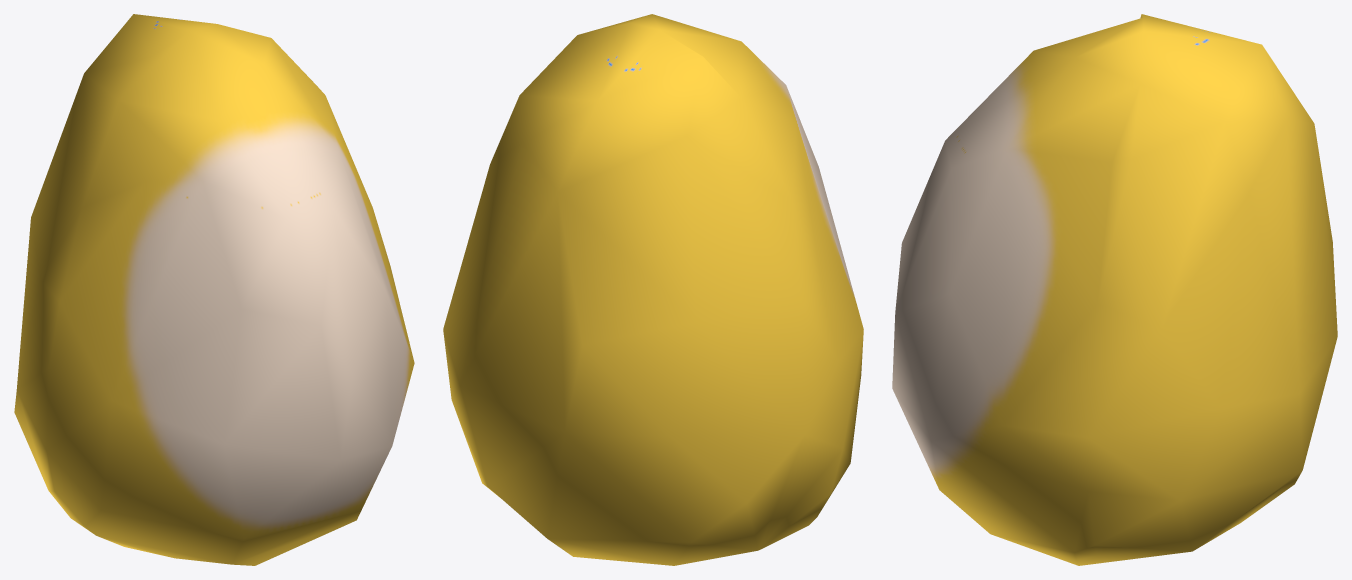
The model's file is Kiichan_body.obj.
The picture shows the model from 3 angles, left to right: view 1: azimuth 30°, elevation 25°; view 2: azimuth 150°, elevation 25°; view 3: azimuth 270°, elevation 25°; orthographic projection. The views are drawn at different scales.
Visible parts, largest first — view 1: YELLOW_BODY; view 2: YELLOW_BODY; view 3: YELLOW_BODY.
Boxes of the visible parts, left/top/right/bottom form: YELLOW_BODY: left=14, top=14, right=414, bottom=565; YELLOW_BODY: left=443, top=14, right=863, bottom=565; YELLOW_BODY: left=892, top=14, right=1337, bottom=565.
Size of the model in its own units: 1.2 by 1.68 by 1.32.
Materials: 1 (1 with a texture image).
